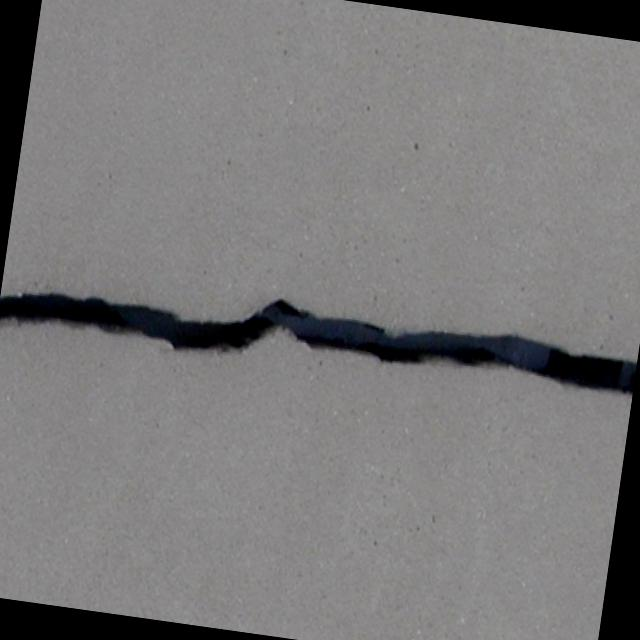crack: (0, 260, 638, 418)
